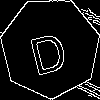D: (25, 23, 70, 76)
